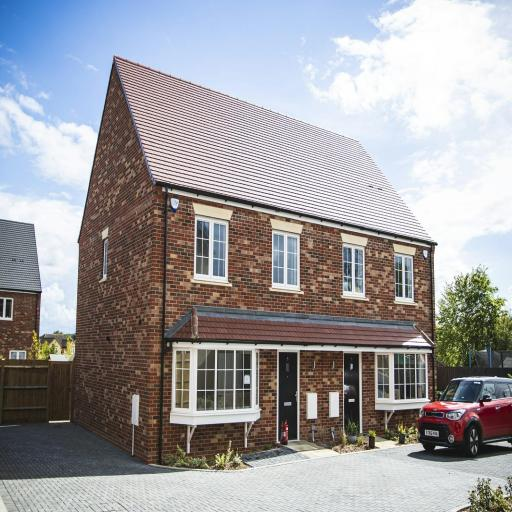door: (278, 356, 300, 450), (343, 355, 364, 439)
